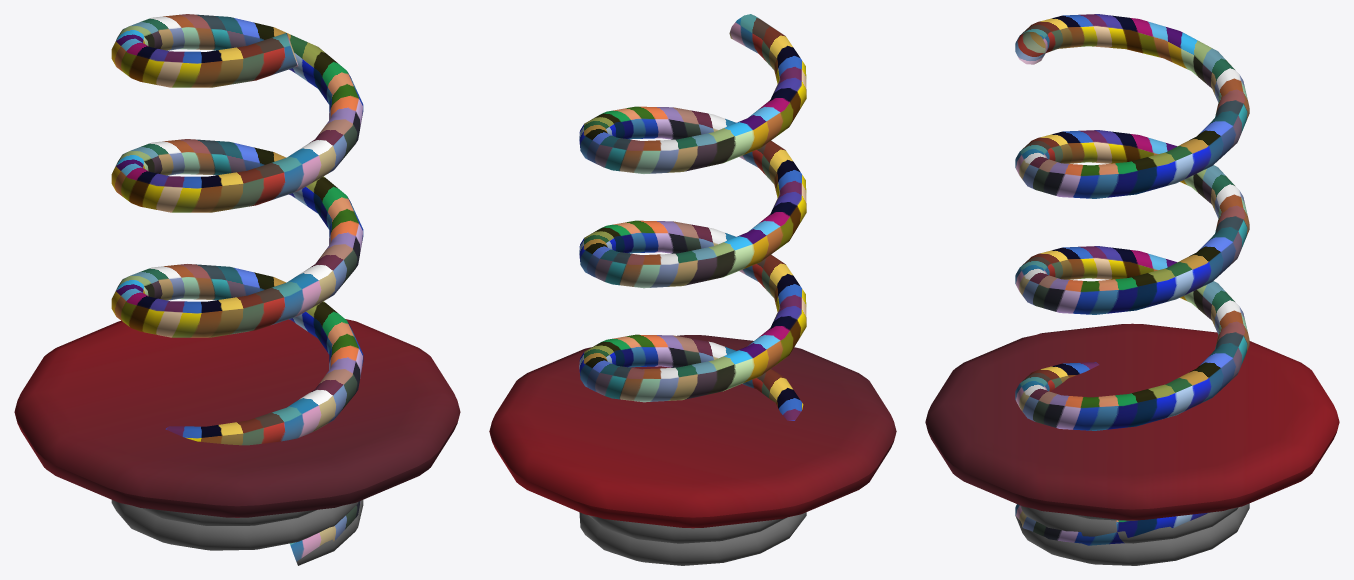
The model's file is SpringAnimation.fbx.
3 views of the same model, side by side, from view 1: azimuth 30°, elevation 25°; view 2: azimuth 150°, elevation 25°; view 3: azimuth 270°, elevation 25° (orthographic). The views are drawn at different scales.
Visible parts, largest first — view 1: Circle, Circle.001, Circle.002; view 2: Circle, Circle.001, Circle.002; view 3: Circle, Circle.001, Circle.002.
Boxes of the visible parts, <box> form: Circle: <box>14,319,460,517</box>; Circle.001: <box>111,14,363,561</box>; Circle.002: <box>111,500,363,565</box>; Circle: <box>489,335,896,528</box>; Circle.001: <box>579,14,806,420</box>; Circle.002: <box>579,512,806,565</box>; Circle: <box>925,323,1339,520</box>; Circle.001: <box>1015,14,1249,545</box>; Circle.002: <box>1015,503,1249,565</box>.
Bounding box in the file's own units: 219 × 288 × 219.
2 materials, 1 textured.
